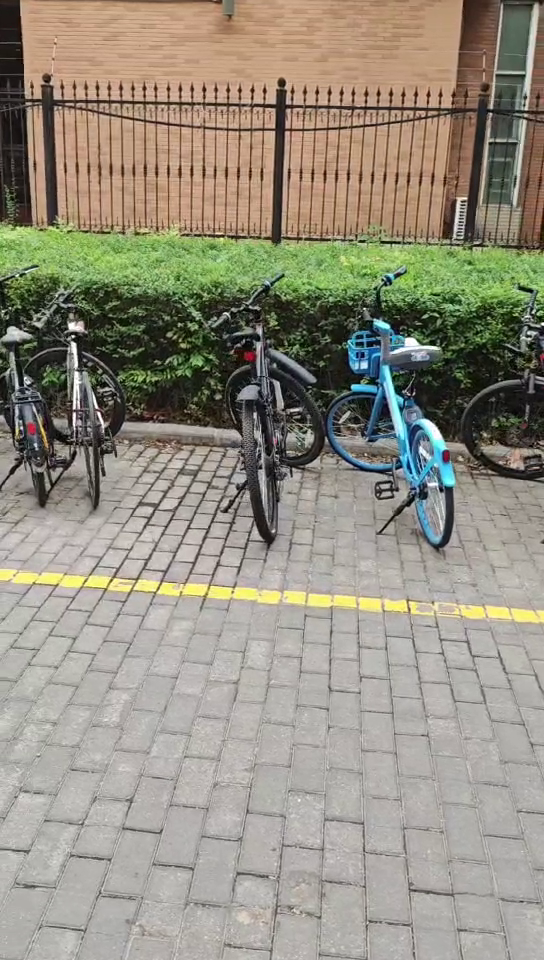others: (194, 276, 322, 553), (43, 282, 156, 503), (479, 267, 544, 520), (6, 273, 65, 511)
shared_bike_haluo: (322, 254, 476, 595)
